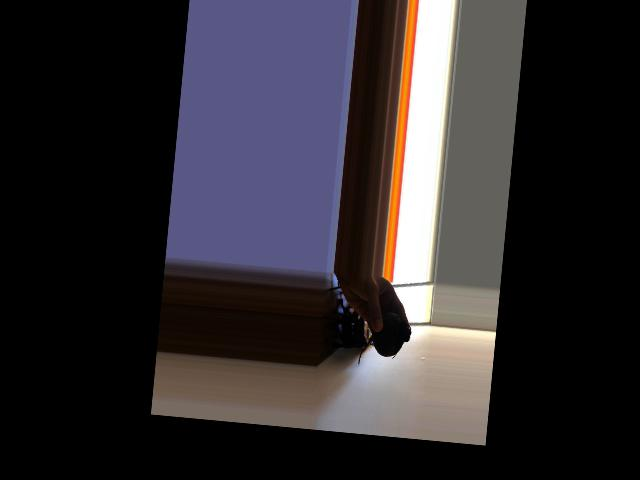beet: (357, 310, 412, 370)
